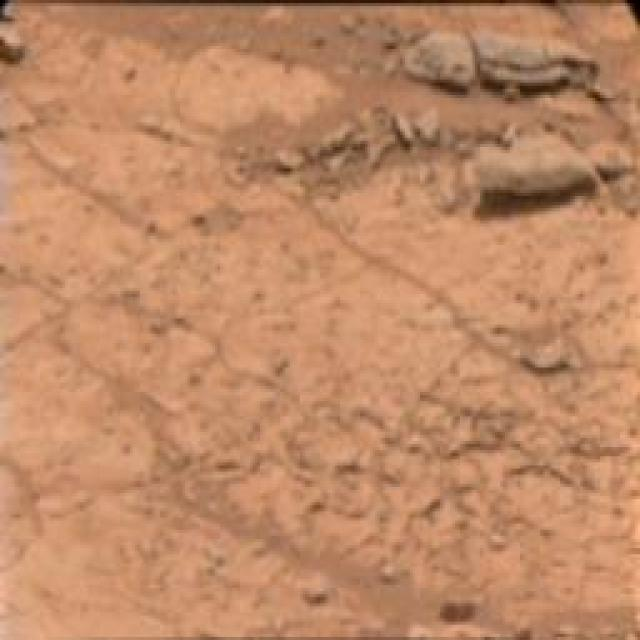rock: (462, 140, 594, 204), (472, 29, 602, 92), (409, 22, 472, 90), (0, 6, 27, 66)
